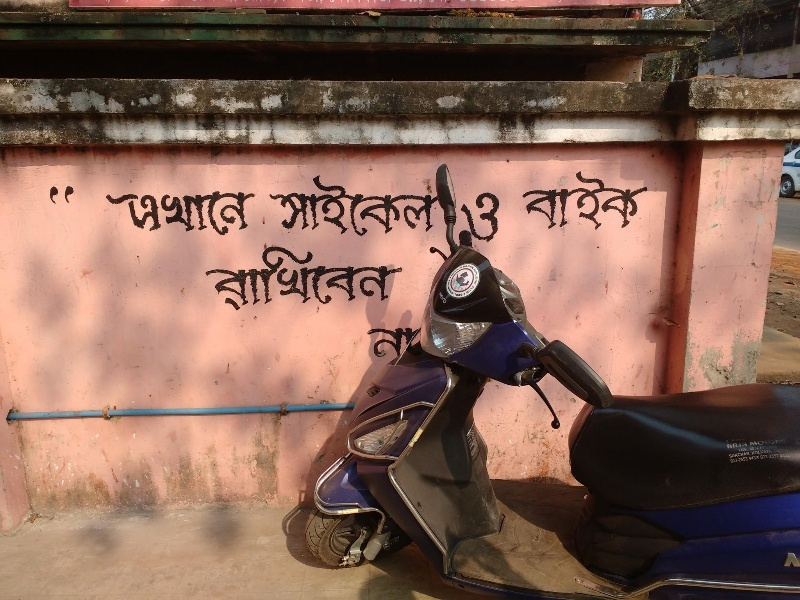text: (273, 163, 288, 239), (289, 163, 304, 239), (305, 163, 320, 239), (321, 163, 336, 239), (337, 163, 352, 239), (353, 163, 368, 239), (369, 163, 384, 239), (385, 163, 400, 239), (401, 163, 416, 239), (417, 163, 432, 239), (529, 164, 544, 240), (545, 164, 560, 240), (561, 164, 576, 240), (577, 164, 592, 240), (593, 164, 608, 240), (609, 164, 624, 240), (625, 164, 640, 240), (209, 245, 224, 317), (225, 245, 240, 317), (241, 245, 256, 317), (257, 245, 272, 317), (273, 245, 288, 317), (289, 245, 304, 317), (305, 245, 320, 317), (321, 245, 336, 317), (337, 245, 352, 317), (353, 245, 368, 317), (369, 245, 384, 317), (385, 245, 400, 317), (49, 185, 64, 254), (65, 185, 80, 254), (81, 185, 96, 254), (97, 185, 112, 254), (113, 185, 128, 254), (129, 185, 144, 254), (145, 185, 160, 254), (161, 185, 176, 254), (177, 185, 192, 254), (193, 185, 208, 254), (209, 185, 224, 254), (225, 185, 240, 254), (241, 185, 256, 254), (465, 190, 480, 254), (481, 190, 496, 254), (449, 258, 464, 309), (465, 258, 480, 309), (641, 164, 651, 240), (369, 324, 384, 370), (385, 324, 400, 370), (401, 324, 416, 370), (433, 163, 440, 239), (721, 434, 736, 467), (737, 434, 752, 467), (753, 434, 768, 467), (769, 434, 784, 467), (497, 190, 504, 254), (440, 258, 448, 309), (401, 245, 406, 317), (785, 548, 800, 572), (361, 324, 368, 370), (268, 163, 272, 239), (524, 164, 528, 240), (204, 245, 208, 317), (785, 434, 792, 467), (417, 324, 422, 370), (257, 185, 260, 254), (481, 258, 483, 309), (442, 291, 448, 305), (718, 434, 720, 467), (463, 190, 464, 254)
